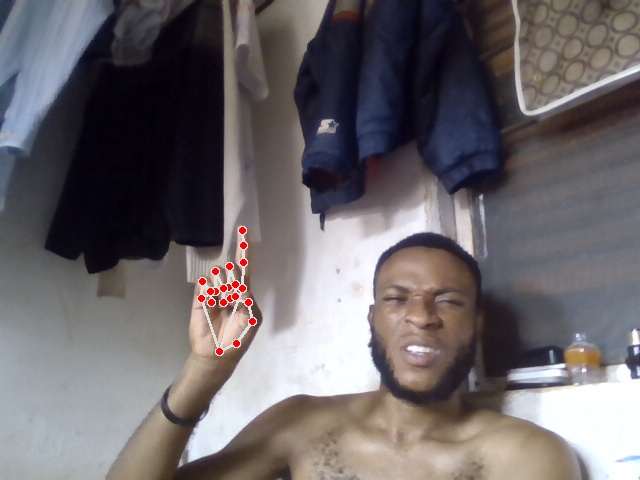number1: (189, 224, 264, 364)
